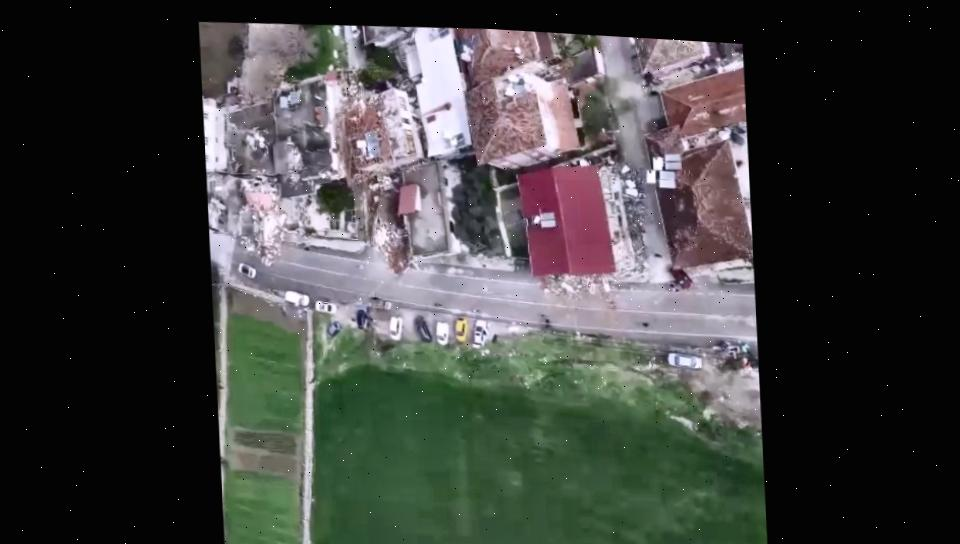kapali: (346, 43, 384, 263)
